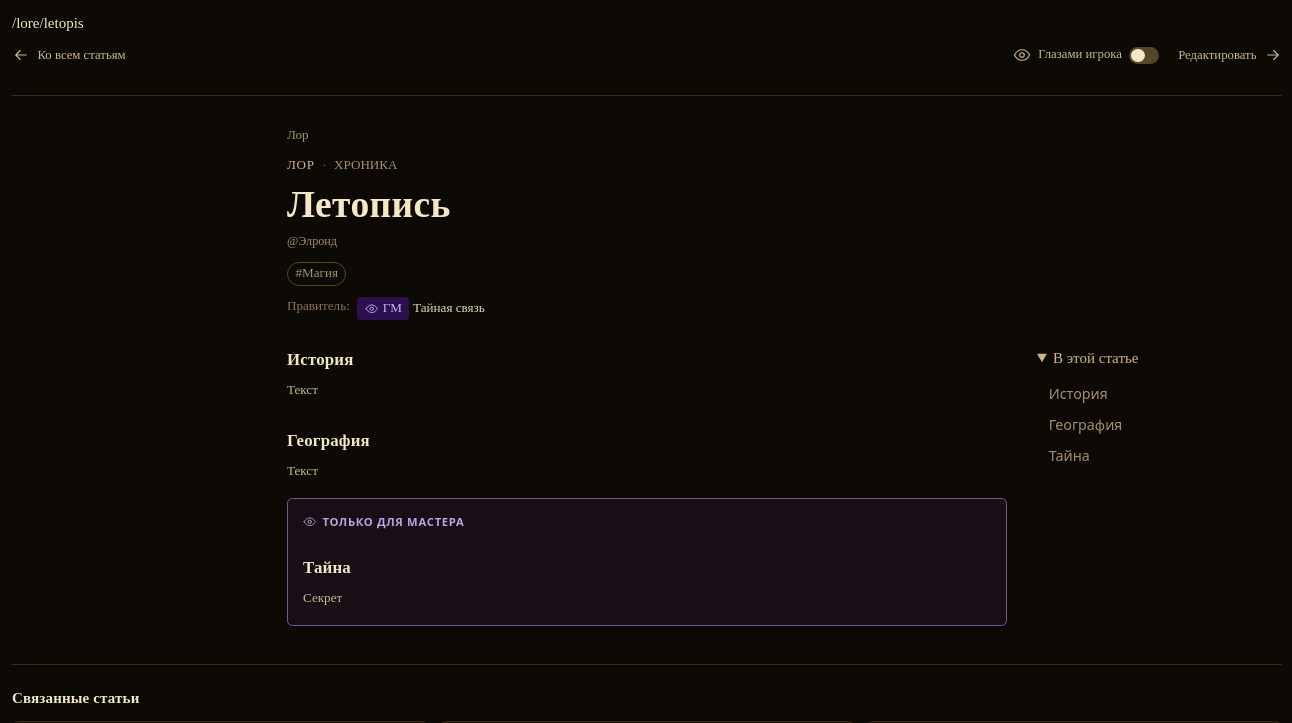
Scenario: Lore navigation and filters › links a tag to the lore filtered by that tag
Click the link "#Магия" at (317, 274), box x1=287 y1=262 x2=346 y2=286
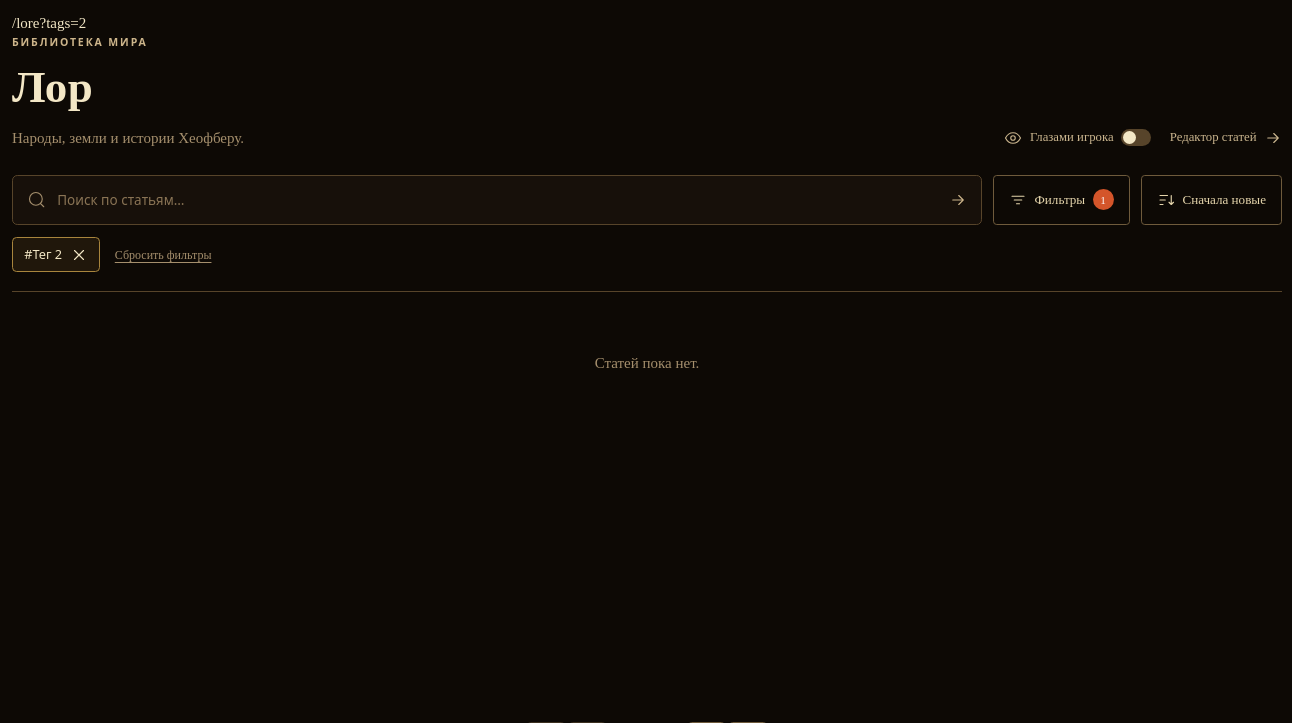
Check: the text with test id "location" reads "/lore?tags=2", box x1=12 y1=15 x2=86 y2=31
